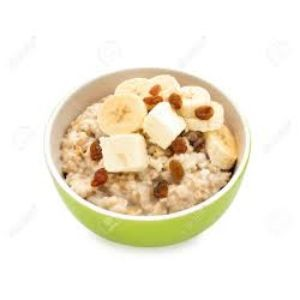oat_brain food: (75, 73, 239, 193)
